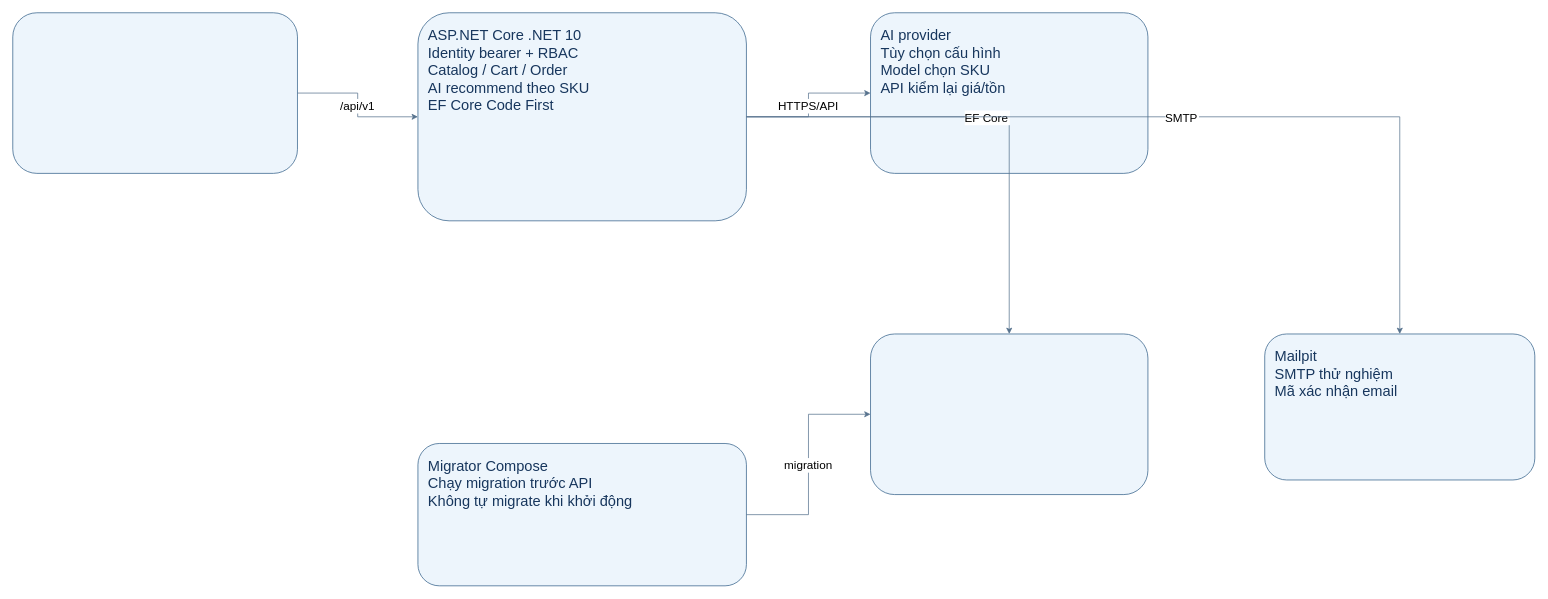
Image size: 1548x599. Some labels were removed from this diagram. The centre of each missing label's shape, as x and y in pixels:
Frontend React 19 Vite, TypeScript TailwindCSS Chạy ngoài Compose: the point at 154,92
PostgreSQL 17 Schema commerce Volume postgres_data Migration riêng: the point at 1009,414
